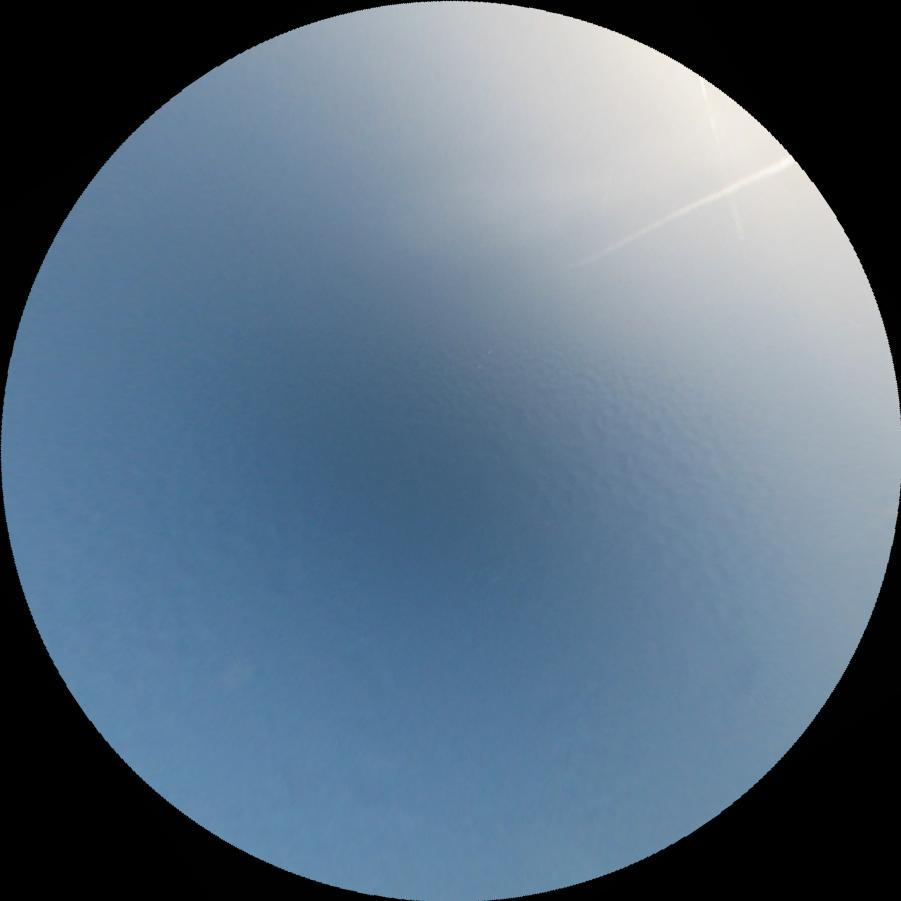contrail old: (569, 154, 795, 267)
contrail young: (695, 73, 748, 237)
